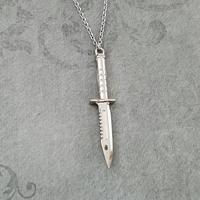knife: (76, 43, 129, 170)
